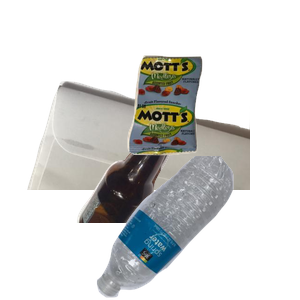glass: (74, 120, 244, 300)
paper: (25, 79, 265, 259)
plastic: (94, 156, 300, 300)
trash: (125, 53, 300, 201)
